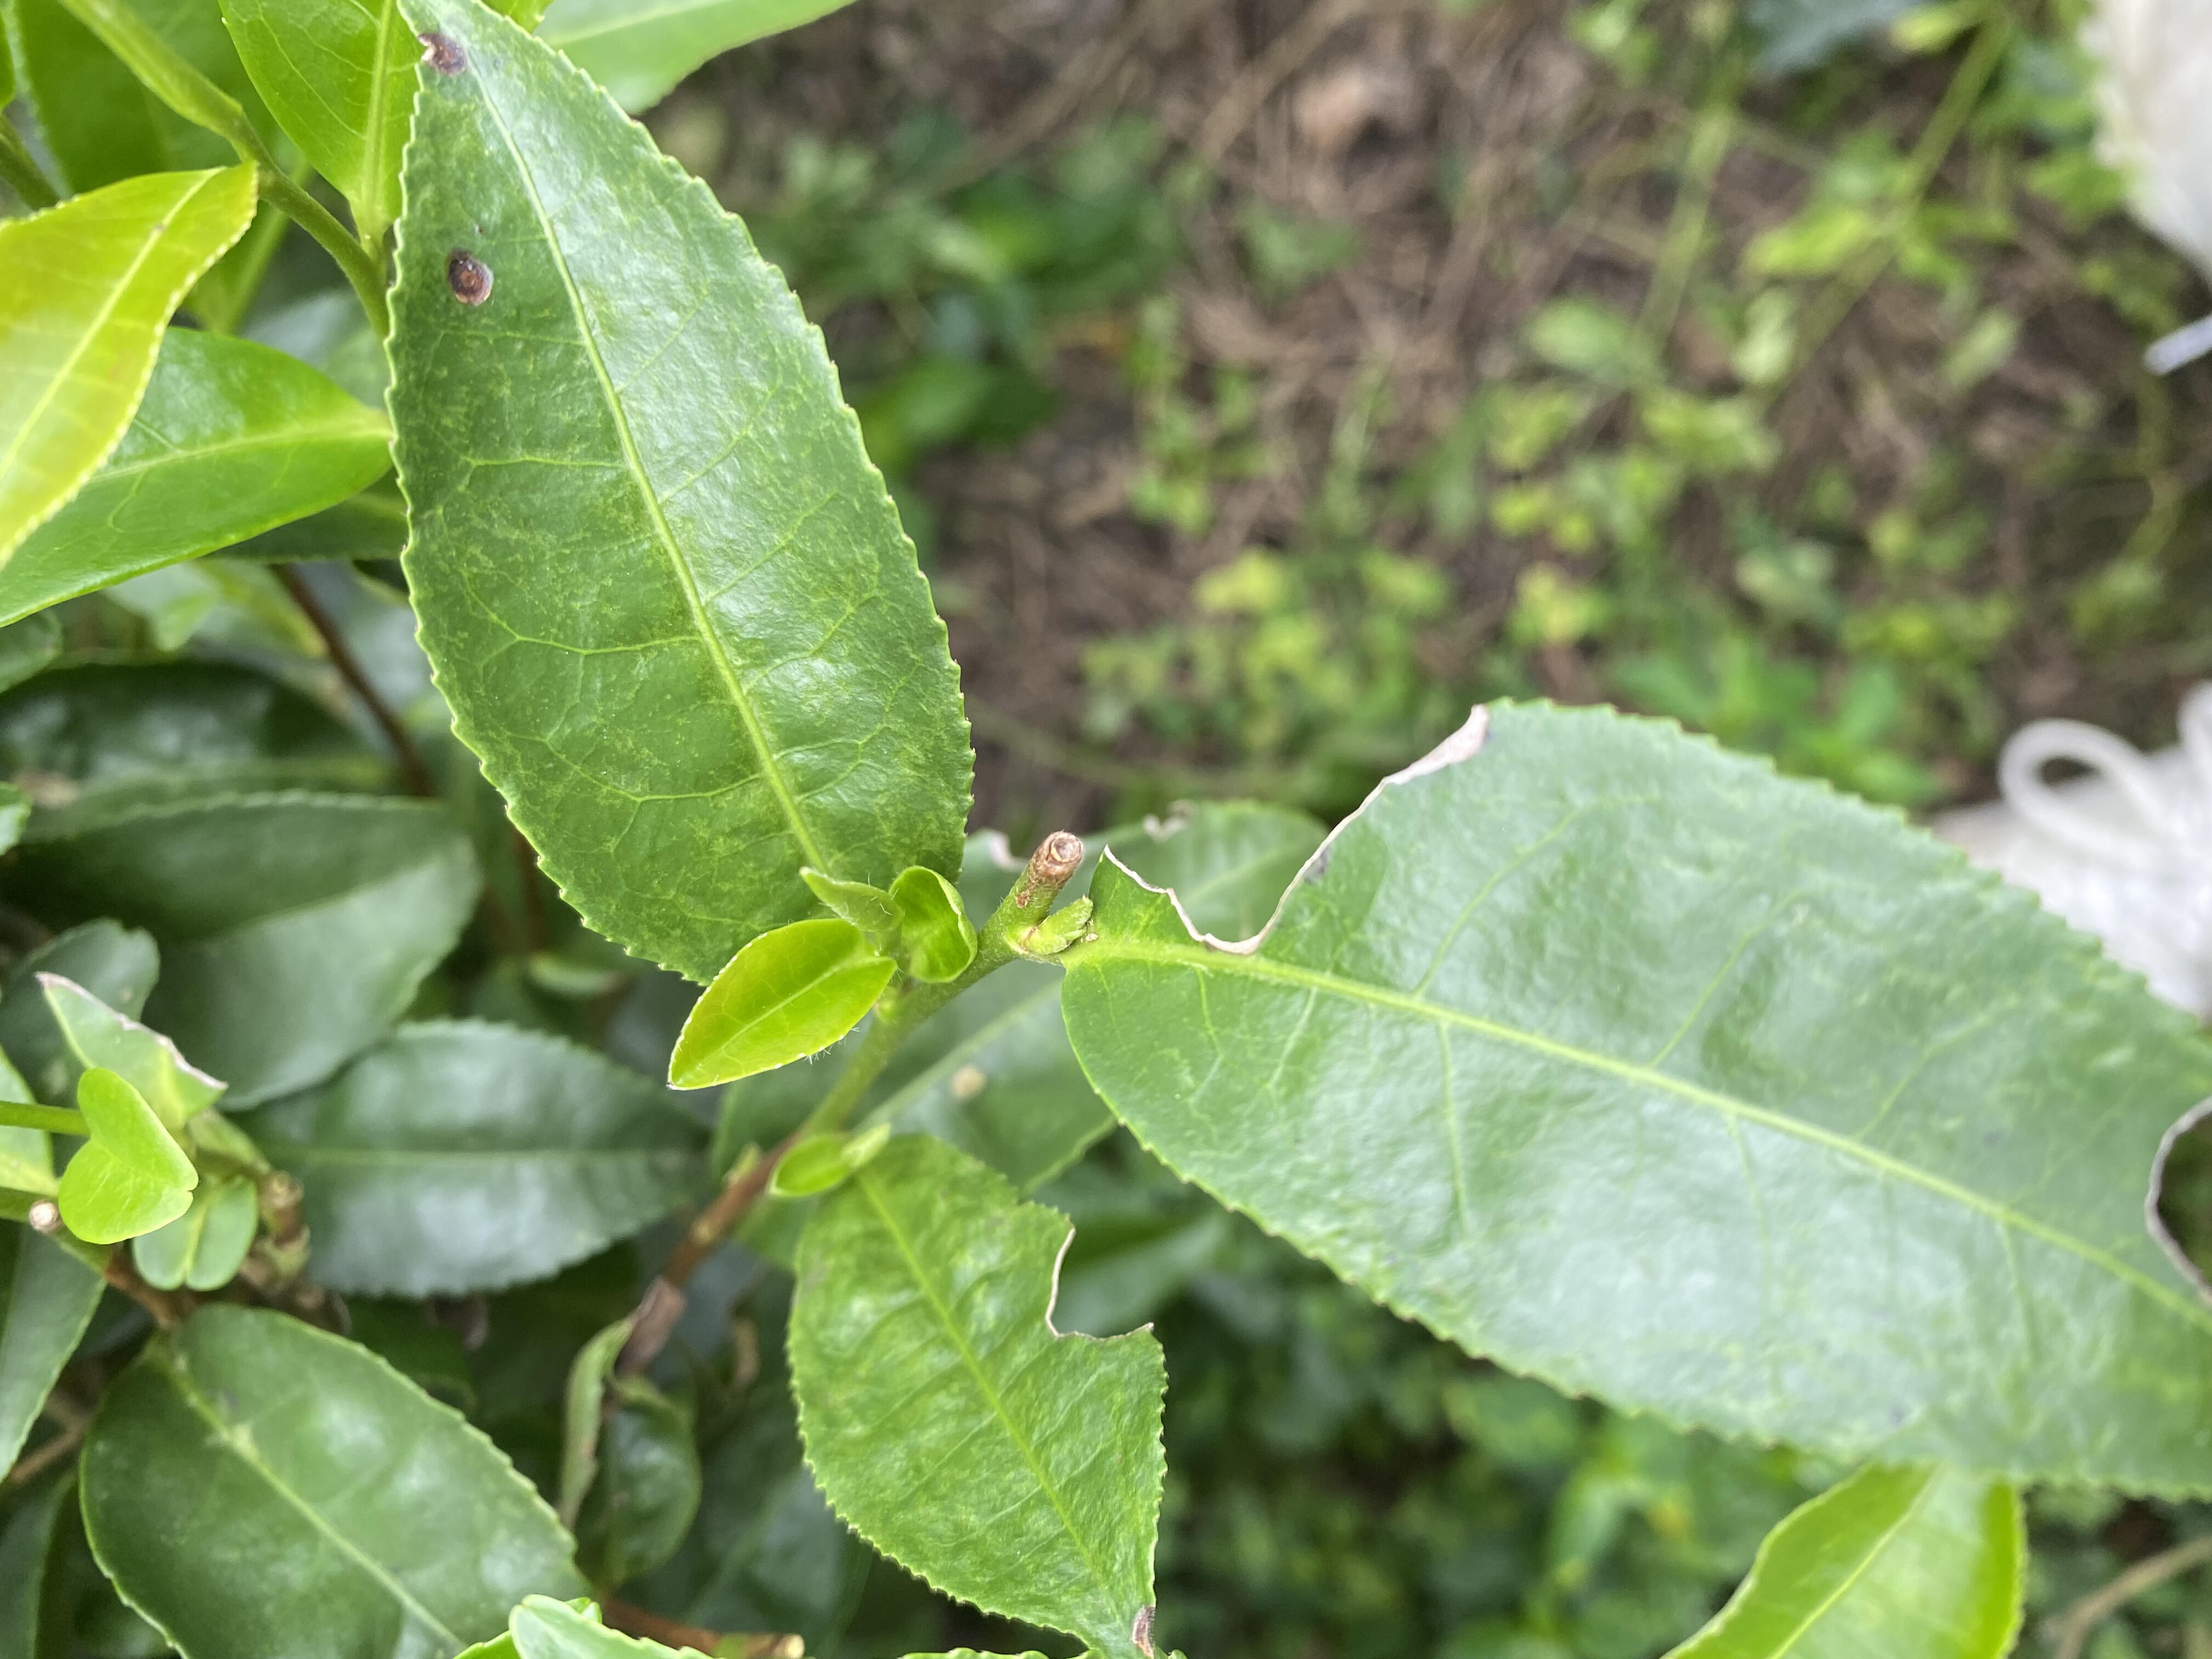chihuo_high: (1064, 695, 2210, 1493)
chihuo_low: (787, 1131, 1169, 1649)
healthy: (665, 917, 894, 1091), (54, 1066, 199, 1249)
tanju_low: (383, 3, 977, 986)
